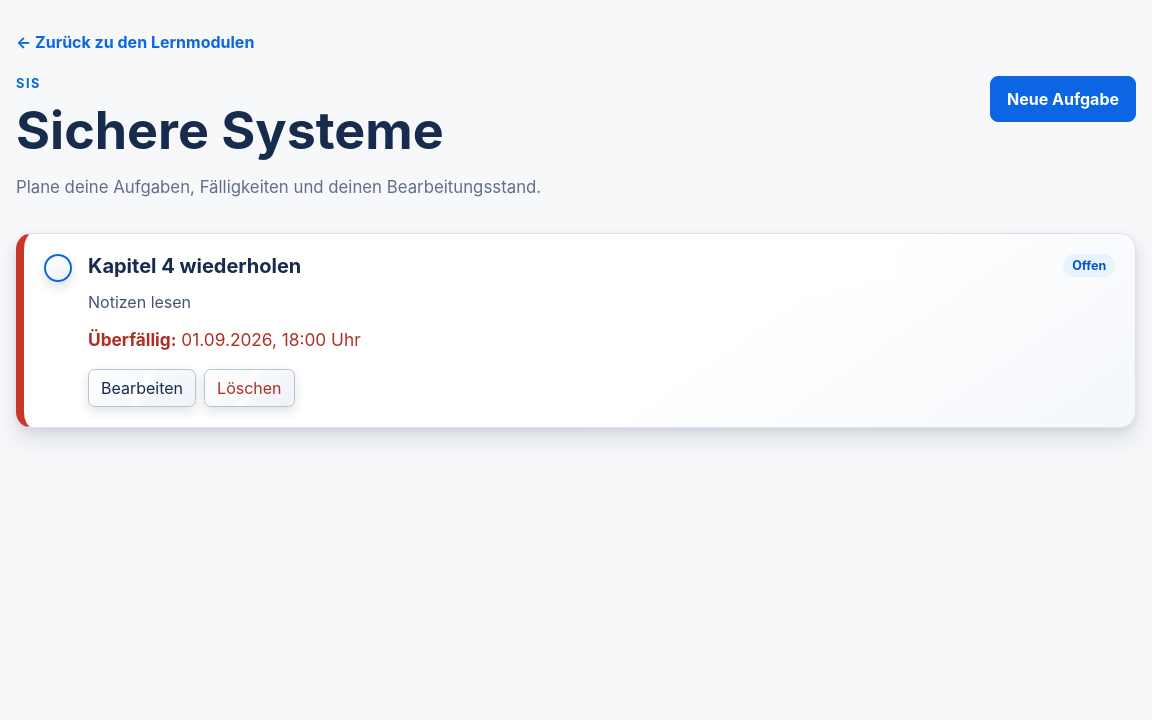
StudyTasksView › marks an open task as completed
The image size is (1152, 720).
Click the button with class "status-button".
click(58, 268)  # box [44,254,72,282]
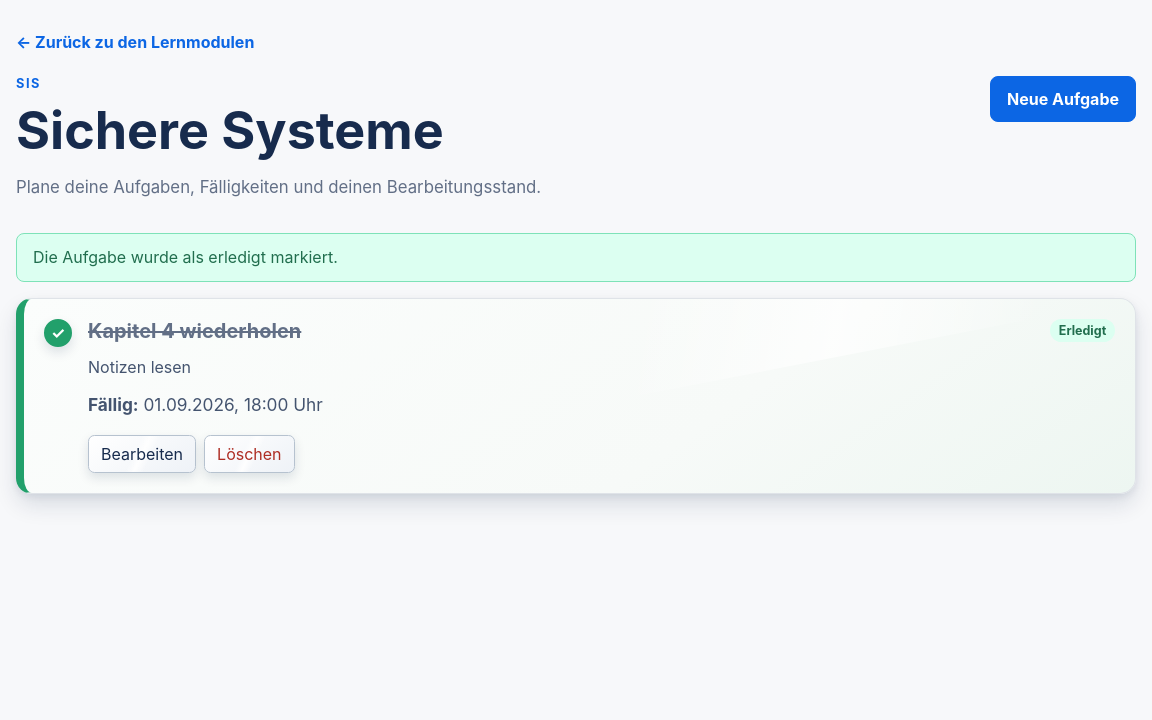
Expected: the text with class "status-label" reads "Erledigt", [1059,323,1106,338]
Expected: the text "als erledigt markiert" is shown, [33,248,338,268]
